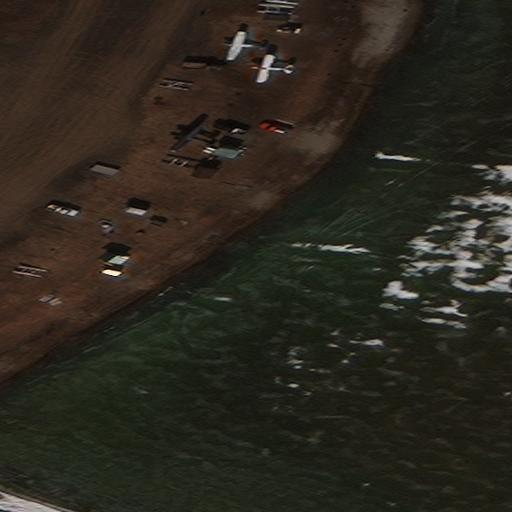Small Civil Transport: (219, 30, 267, 60), (250, 53, 295, 82), (171, 120, 214, 150)
